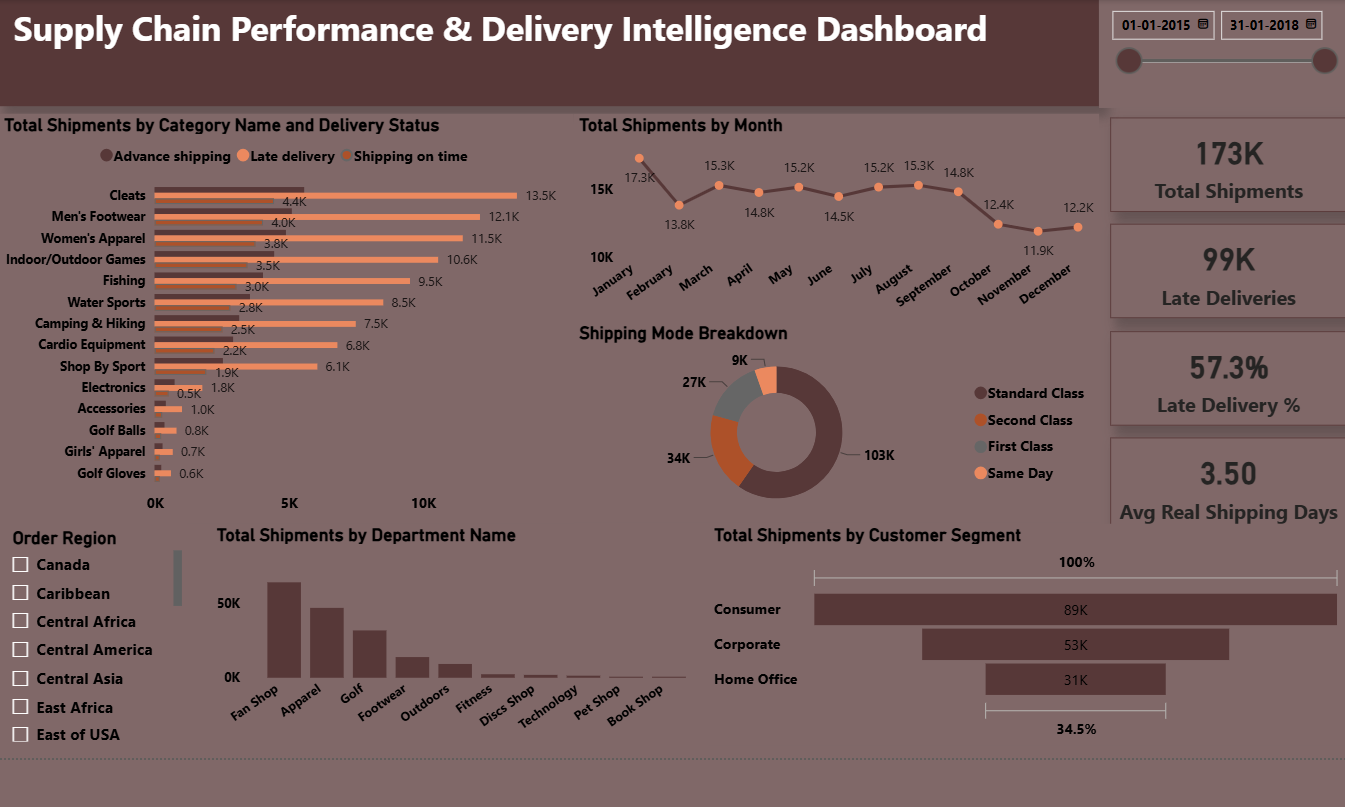

This screenshot's page, from the dashboard's own definition file:
{"tool":"powerbi","page":{"name":"Page 1","canvas":[1280,720],"ordinal":0},"visuals":[{"type":"card","fields":{"Values":["supply_chain_db cleaned_supply_chain_data.Total Shipments"]},"box":[1054.4,111.4,225.6,89.5],"z":0},{"type":"textbox","box":[0,0,1044.2,101],"z":1000},{"type":"card","fields":{"Values":["supply_chain_db cleaned_supply_chain_data.Late Deliveries"]},"box":[1054.4,212.7,225.3,89.9],"z":2000},{"type":"card","fields":{"Values":["supply_chain_db cleaned_supply_chain_data.Late Delivery %"]},"box":[1054.4,313.9,225.3,89.9],"z":3000},{"type":"card","fields":{"Values":["supply_chain_db cleaned_supply_chain_data.Avg Real Shipping Days"]},"box":[1054.4,415.2,225.3,89.9],"z":4000},{"type":"lineChart","fields":{"Category":["supply_chain_db cleaned_supply_chain_data.order date (DateOrders).Variation.Date Hierarchy.Month"],"Y":["supply_chain_db cleaned_supply_chain_data.Total Shipments"]},"box":[545.6,107.6,498.7,198.7],"z":5000},{"type":"clusteredBarChart","fields":{"Category":["supply_chain_db cleaned_supply_chain_data.Category Name"],"Series":["supply_chain_db cleaned_supply_chain_data.Delivery Status"],"Y":["supply_chain_db cleaned_supply_chain_data.Total Shipments"]},"box":[0,107.6,545.6,388.6],"z":6000},{"type":"slicer","fields":{"Values":["supply_chain_db cleaned_supply_chain_data.Order Region"]},"box":[0,496.2,178.5,212.7],"z":7000},{"type":"slicer","fields":{"Values":["supply_chain_db cleaned_supply_chain_data.order date (DateOrders)"]},"box":[1044.3,0,235.4,101.3],"z":8000},{"type":"donutChart","title":"Shipping Mode Breakdown","fields":{"Category":["supply_chain_db cleaned_supply_chain_data.Shipping Mode"],"Y":["supply_chain_db cleaned_supply_chain_data.Total Shipments"]},"box":[545.6,306.3,498.7,189.9],"z":9000},{"type":"clusteredColumnChart","fields":{"Category":["supply_chain_db cleaned_supply_chain_data.Department Name"],"Y":["supply_chain_db cleaned_supply_chain_data.Total Shipments"]},"box":[201.3,497.5,472.2,211.4],"z":10000},{"type":"funnel","fields":{"Category":["supply_chain_db cleaned_supply_chain_data.Customer Segment"],"Y":["supply_chain_db cleaned_supply_chain_data.Total Shipments"]},"box":[673.4,497.5,606.3,210.1],"z":11000}]}

Visuals, with their boxes on the page's 1280x720 design canvas (x1, y1, x2, y2). These are canvas units, not pixel positions in the 1345x807 screenshot, which may show the page scaled, cropped or inside an application window:
card - supply_chain_db cleaned_supply_chain_data.Total Shipments: <region>1054, 111, 1280, 201</region>
textbox: <region>0, 0, 1044, 101</region>
card - supply_chain_db cleaned_supply_chain_data.Late Deliveries: <region>1054, 213, 1280, 303</region>
card - supply_chain_db cleaned_supply_chain_data.Late Delivery %: <region>1054, 314, 1280, 404</region>
card - supply_chain_db cleaned_supply_chain_data.Avg Real Shipping Days: <region>1054, 415, 1280, 505</region>
lineChart - supply_chain_db cleaned_supply_chain_data.order date (DateOrders).Variation.Date Hierarchy.Month x supply_chain_db cleaned_supply_chain_data.Total Shipments: <region>546, 108, 1044, 306</region>
clusteredBarChart - supply_chain_db cleaned_supply_chain_data.Category Name x supply_chain_db cleaned_supply_chain_data.Delivery Status: <region>0, 108, 546, 496</region>
slicer - supply_chain_db cleaned_supply_chain_data.Order Region: <region>0, 496, 178, 709</region>
slicer - supply_chain_db cleaned_supply_chain_data.order date (DateOrders): <region>1044, 0, 1280, 101</region>
"Shipping Mode Breakdown" donutChart: <region>546, 306, 1044, 496</region>
clusteredColumnChart - supply_chain_db cleaned_supply_chain_data.Department Name x supply_chain_db cleaned_supply_chain_data.Total Shipments: <region>201, 498, 674, 709</region>
funnel - supply_chain_db cleaned_supply_chain_data.Customer Segment x supply_chain_db cleaned_supply_chain_data.Total Shipments: <region>673, 498, 1280, 708</region>
